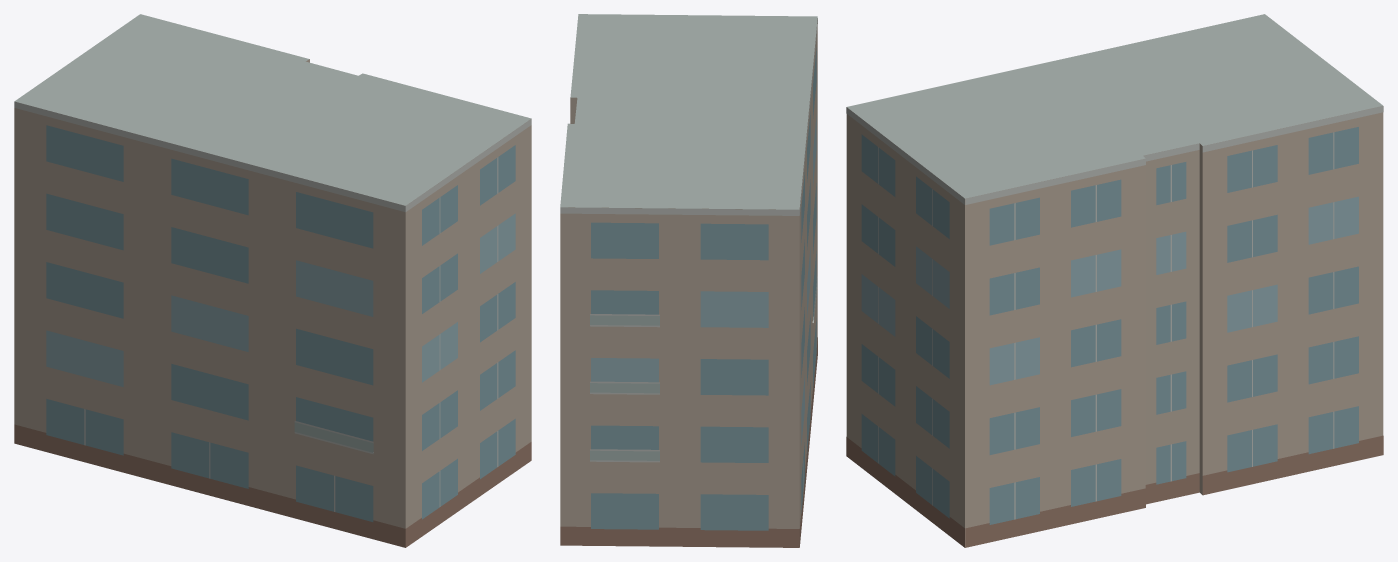
The model's file is survey-upis-32648261.glb.
3 views of the same model, side by side, from view 1: azimuth 30°, elevation 25°; view 2: azimuth 150°, elevation 25°; view 3: azimuth 270°, elevation 25° (orthographic). The views are drawn at different scales.
Visible parts, largest first — view 1: survey-upis-32648261.tmp; view 2: survey-upis-32648261.tmp; view 3: survey-upis-32648261.tmp.
Boxes of the visible parts, <box> form: survey-upis-32648261.tmp: <box>14,14,531,547</box>; survey-upis-32648261.tmp: <box>560,14,817,547</box>; survey-upis-32648261.tmp: <box>846,14,1383,547</box>.
Size of the model in its own units: 14.86 by 13.1 by 18.26.
